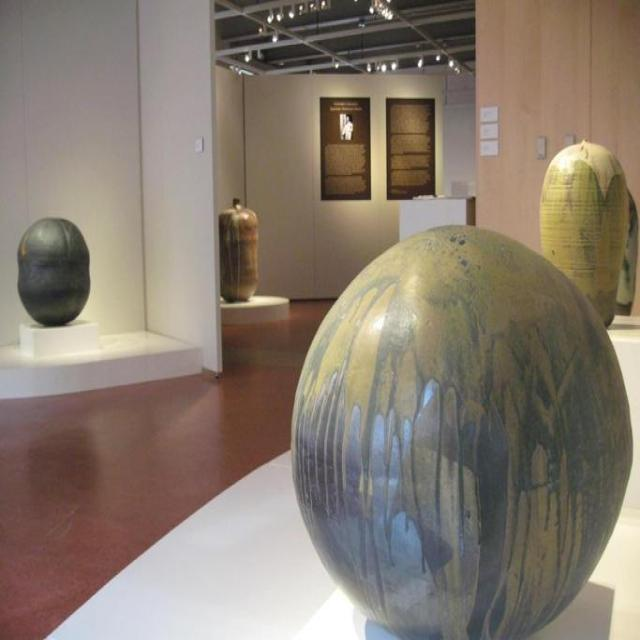door: (243, 69, 445, 300)
pots: (290, 222, 632, 638), (538, 138, 629, 328), (16, 215, 90, 326), (218, 196, 258, 302)
table: (43, 444, 638, 638)
